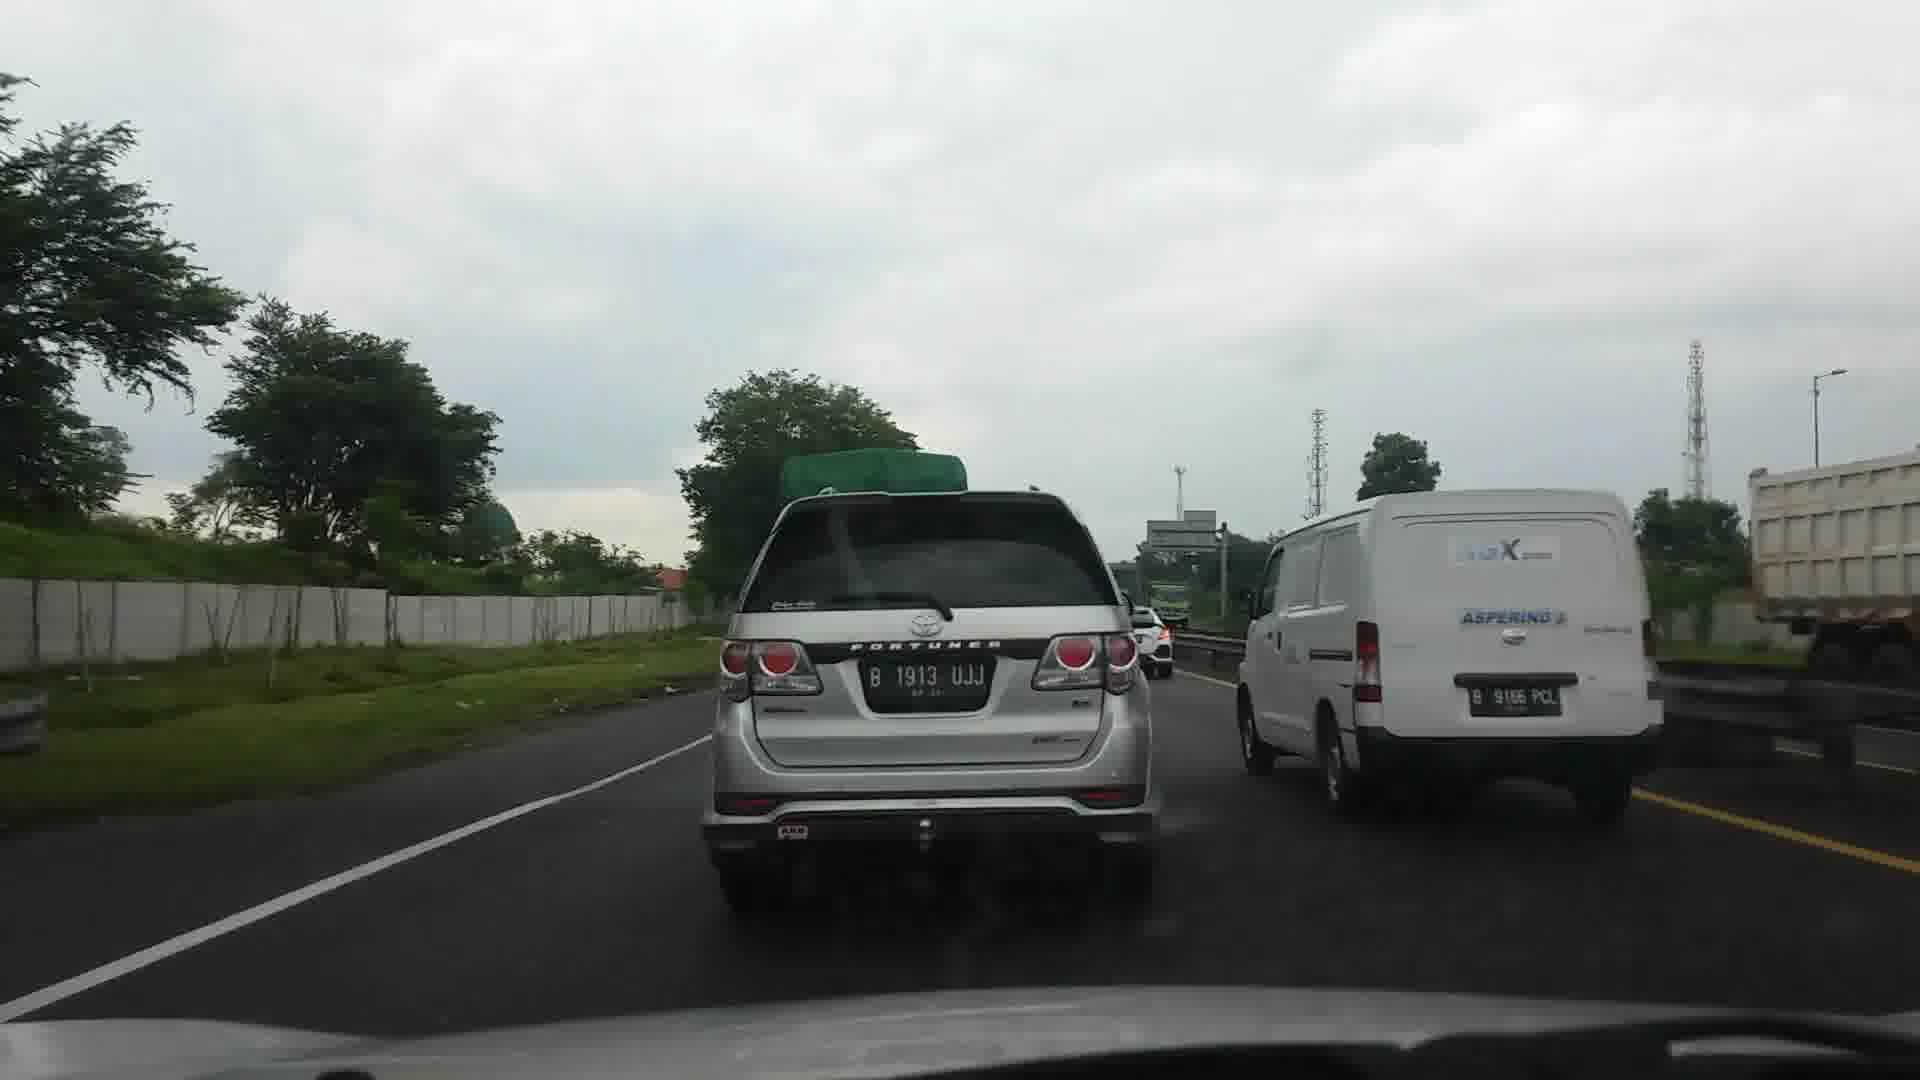plate_positive: (865, 658, 988, 699), (1469, 684, 1560, 717)
